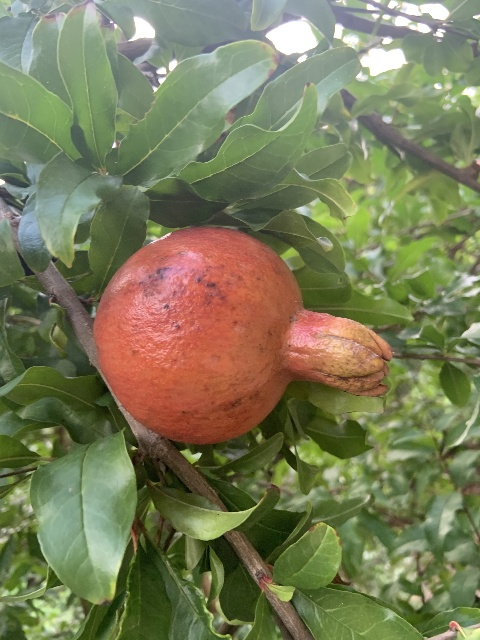ripe: (91, 226, 394, 443)
